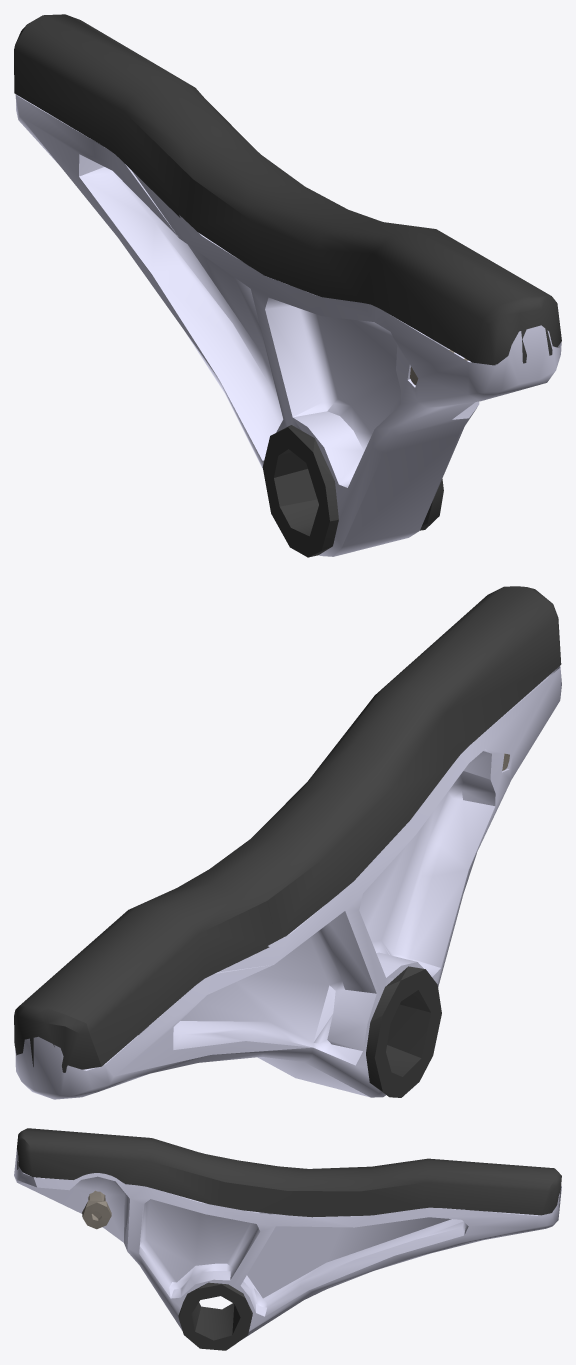
The model's file is right-foot.obj.
The picture shows the model from 3 angles, top to bottom: view 1: azimuth 30°, elevation 25°; view 2: azimuth 150°, elevation 25°; view 3: azimuth 270°, elevation 25°; orthographic projection. The views are drawn at different scales.
Visible parts, largest first — view 1: right_foot; view 2: right_foot; view 3: right_foot.
Boxes of the visible parts, left/top/right/bottom form: right_foot: left=14, top=14, right=561, bottom=557; right_foot: left=14, top=586, right=561, bottom=1099; right_foot: left=14, top=1128, right=561, bottom=1350.
Bounding box in the file's own units: 0.0275 × 0.0748 × 0.1804.
Materials: 1 (1 with a texture image).
